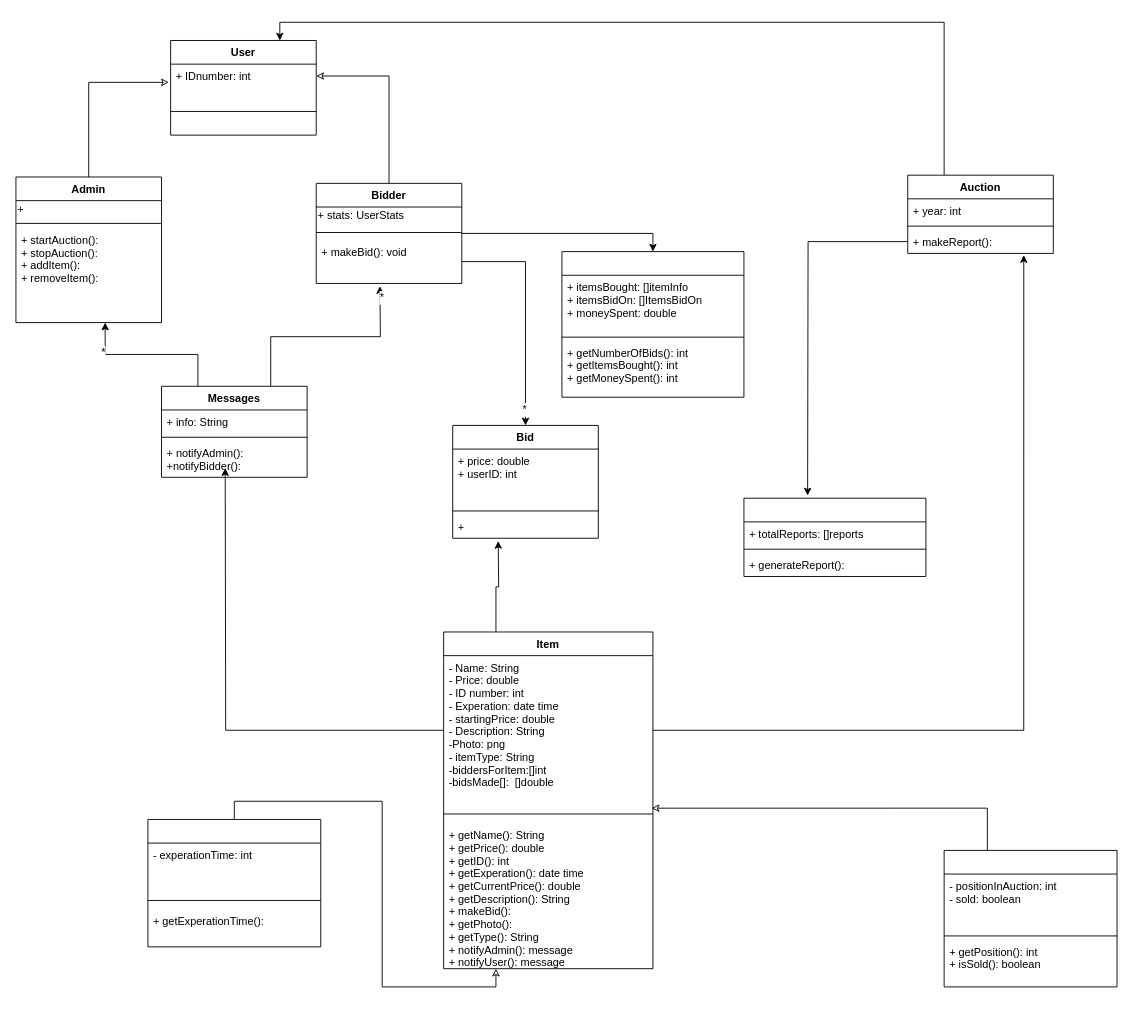
Some shapes in this 1133 by 1010 pixel diagram are drawn without their labels. The shapes that lost their labels are listed below. From the top down, each one's box as (x1, y1, x2, y2) in pixels, then its label:
(561, 251, 744, 397): User Stats
(743, 497, 926, 576): Total Stat
(147, 819, 321, 947): Silent Item
(943, 849, 1117, 987): Live Item
